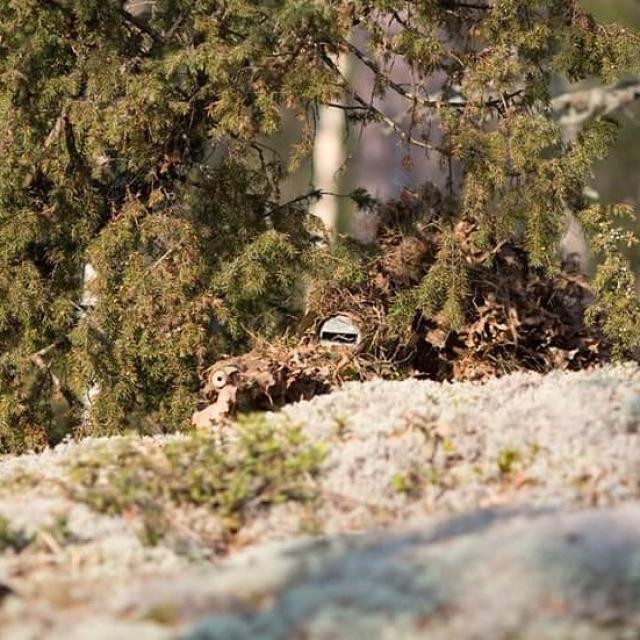Camouflage: (195, 182, 568, 432)
